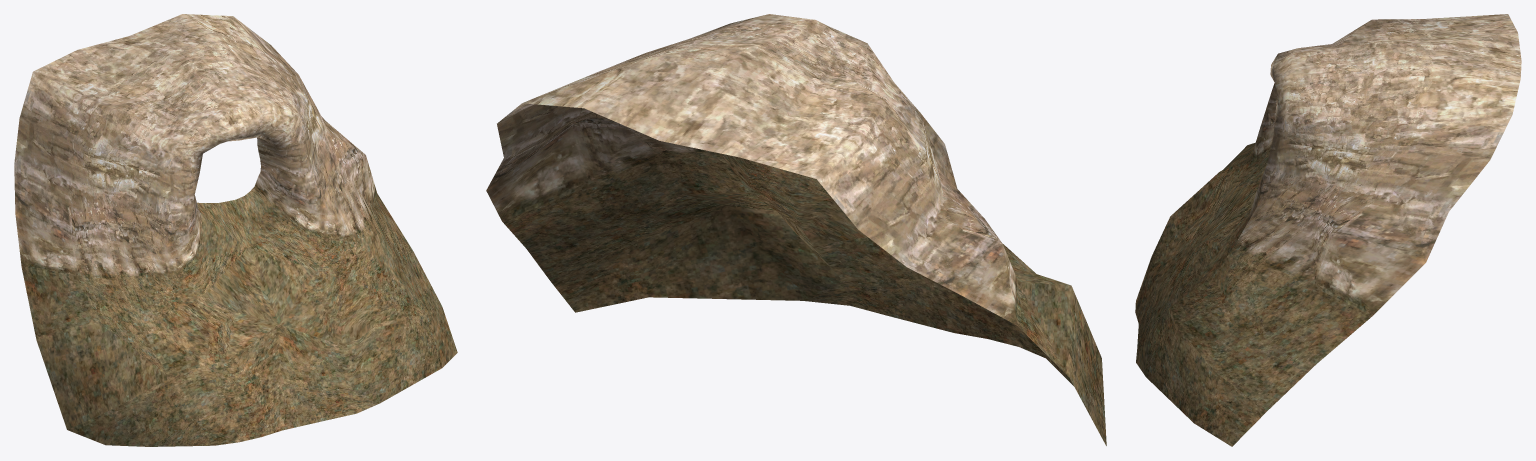
The model's file is thm_all_cave_s02_mirror_r0_mesh_l2.fbx.
The picture shows the model from 3 angles, left to right: view 1: azimuth 30°, elevation 25°; view 2: azimuth 150°, elevation 25°; view 3: azimuth 270°, elevation 25°; orthographic projection. The views are drawn at different scales.
Visible parts, largest first — view 1: mesh_node; view 2: mesh_node; view 3: mesh_node.
Part boxes in pixels (x1,y1,x2,y2): mesh_node: [14, 14, 457, 446]; mesh_node: [486, 14, 1106, 445]; mesh_node: [1135, 14, 1521, 446].
Size of the model in its own units: 48.32 by 34.16 by 39.34.
